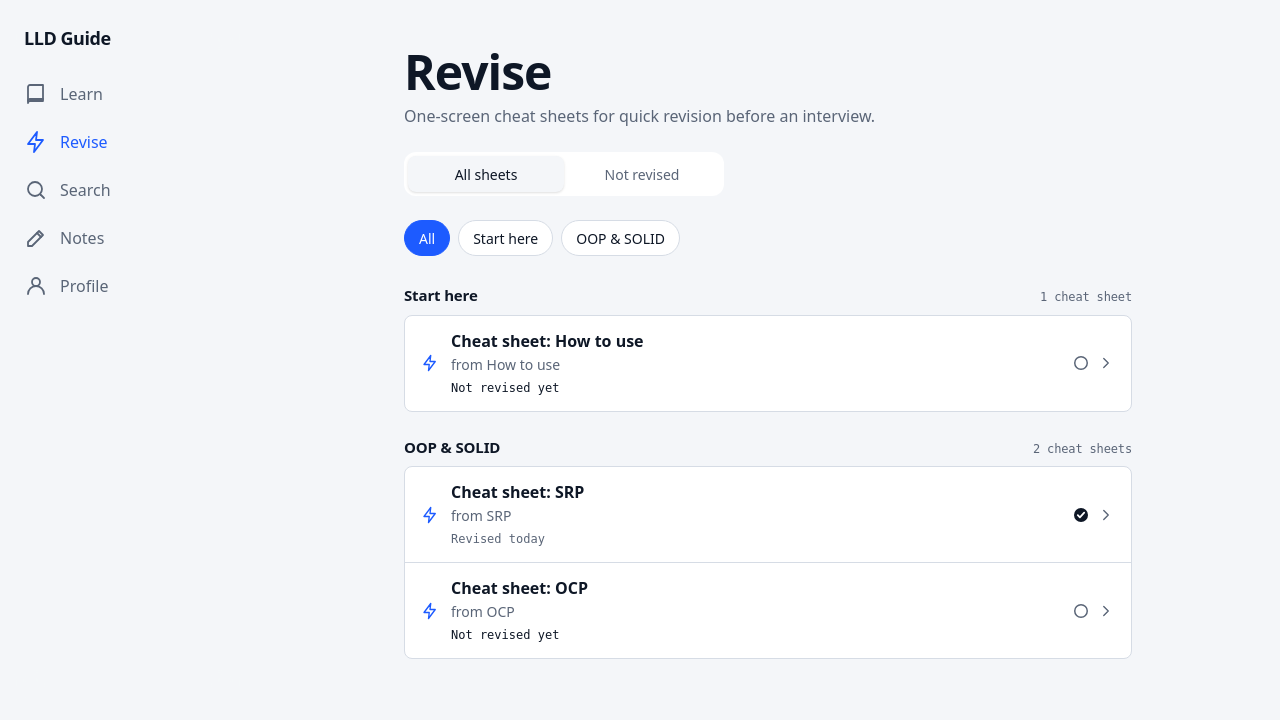
Test: Revise with progress › says when each sheet was revised and can show only the ones not revised yet
Expected: the text "Revised today" is shown, x1=451 y1=532 x2=545 y2=546
Expected: the text "Not revised yet" is shown 2 times, x1=451 y1=380 x2=559 y2=394; x1=451 y1=628 x2=559 y2=642
Click the radio button labelled "Not revised".
click(642, 174)  # box x1=564 y1=156 x2=720 y2=192
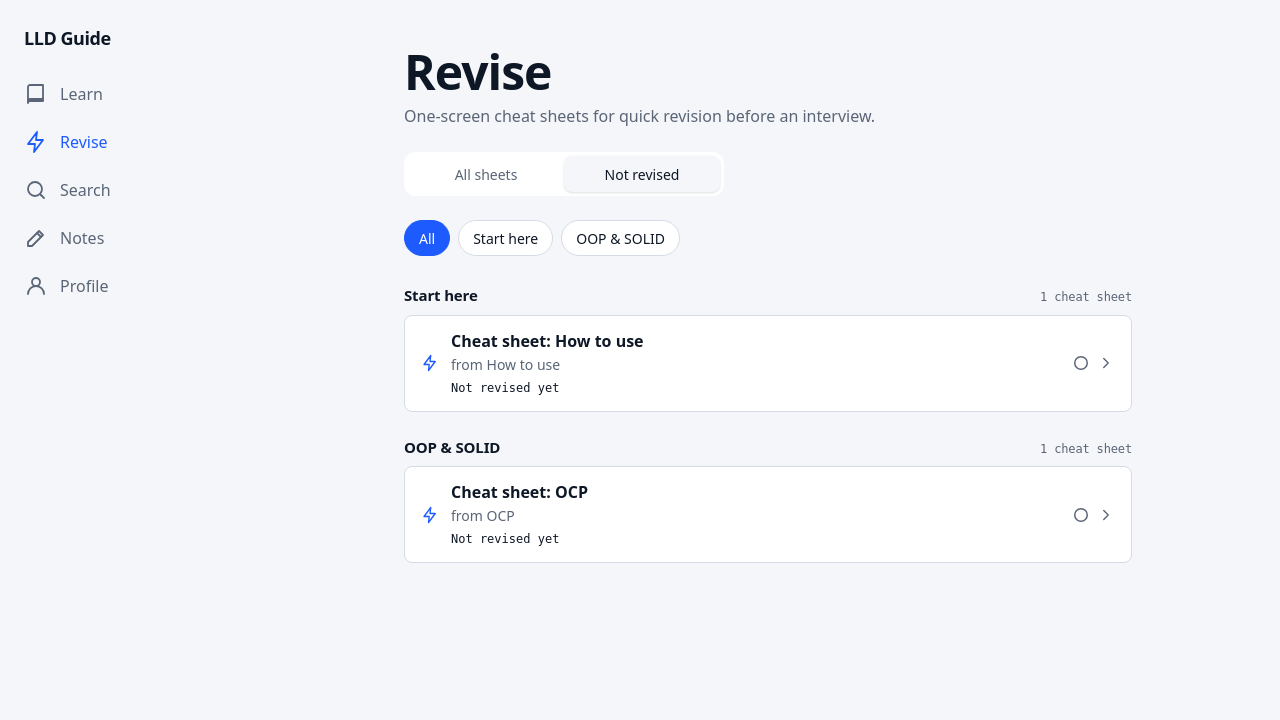
Expected: the text "Cheat sheet: OCP" is shown, x1=451 y1=481 x2=588 y2=503
Result: the link "Cheat sheet: SRP" is gone
